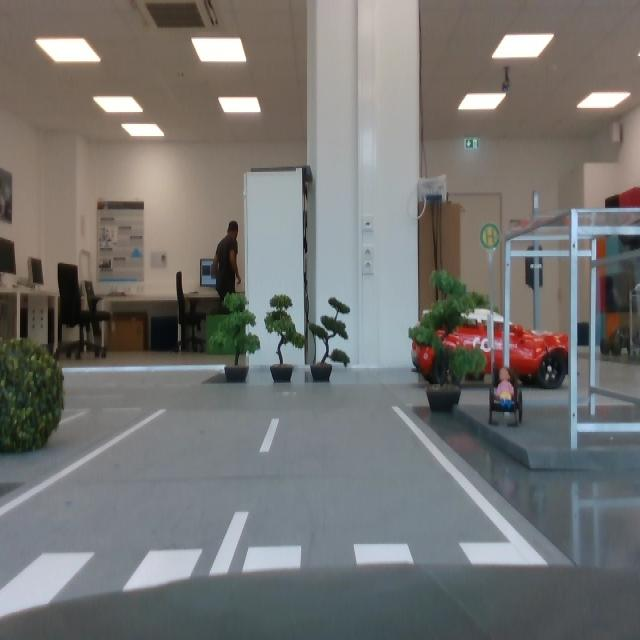car: (411, 308, 571, 390), (599, 328, 640, 356)
person: (494, 368, 517, 410)
potted plant: (409, 268, 489, 413), (1, 336, 65, 453), (207, 292, 261, 382), (308, 297, 351, 382), (264, 293, 305, 382)
traffic light: (526, 245, 544, 291)
